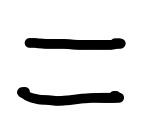eqv: (18, 38, 125, 105)
